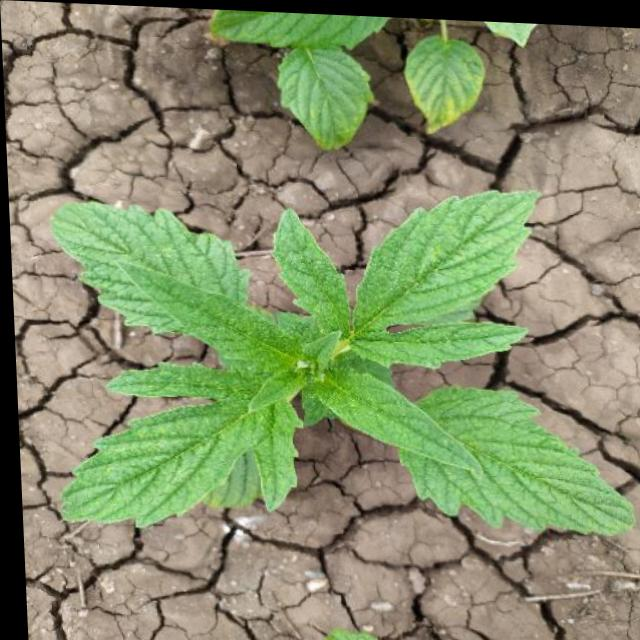crop: (17, 169, 640, 578)
